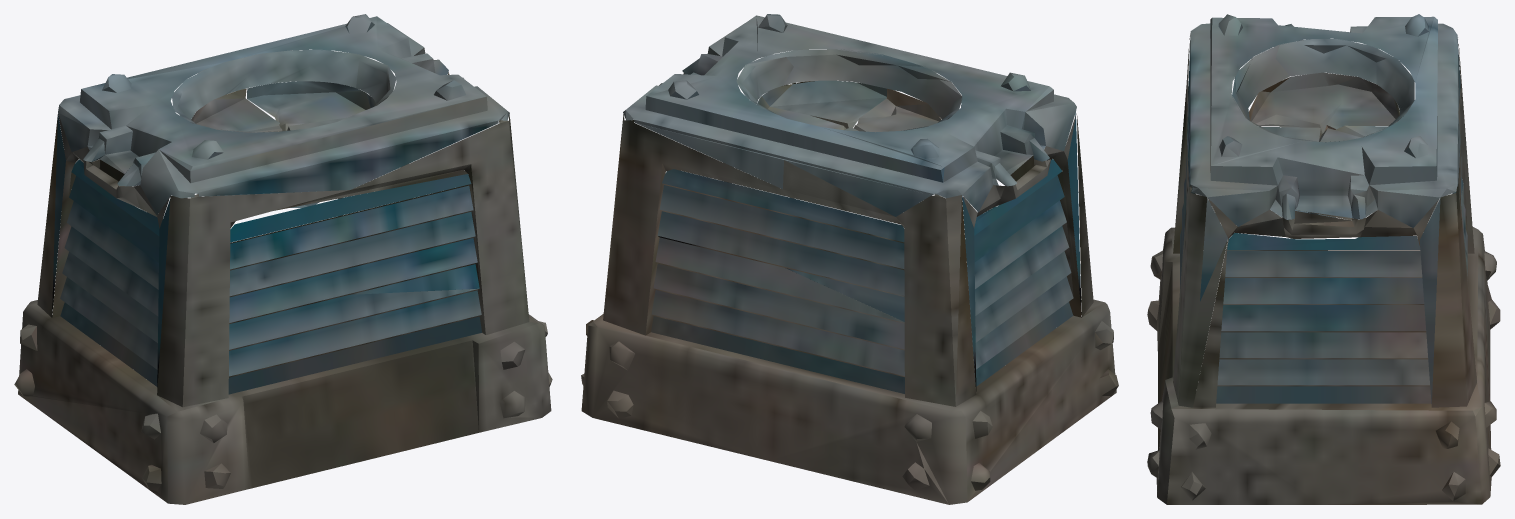
Rendered from requester-chest.glb.
3 views of the same model, side by side, from view 1: azimuth 30°, elevation 25°; view 2: azimuth 150°, elevation 25°; view 3: azimuth 270°, elevation 25° (orthographic). The views are drawn at different scales.
Parts seen in each view (by area): view 1: body, anim_hatch_e, anim_hatch_w; view 2: body, anim_hatch_e, anim_hatch_w; view 3: body, anim_hatch_w, anim_hatch_e.
Part boxes in pixels (x1,y1,x2,y2): body: [14, 14, 552, 504]; anim_hatch_e: [247, 81, 375, 131]; anim_hatch_w: [191, 88, 282, 132]; body: [581, 14, 1118, 504]; anim_hatch_e: [757, 80, 886, 129]; anim_hatch_w: [844, 88, 941, 132]; body: [1147, 14, 1500, 504]; anim_hatch_w: [1249, 72, 1399, 134]; anim_hatch_e: [1262, 125, 1388, 142].
Size of the model in its own units: 1.01 by 0.7617 by 0.7356.
Materials: 1 (1 with a texture image).
